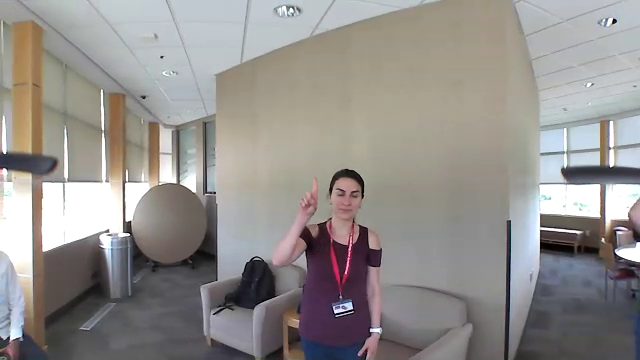up: (294, 173, 322, 220)
